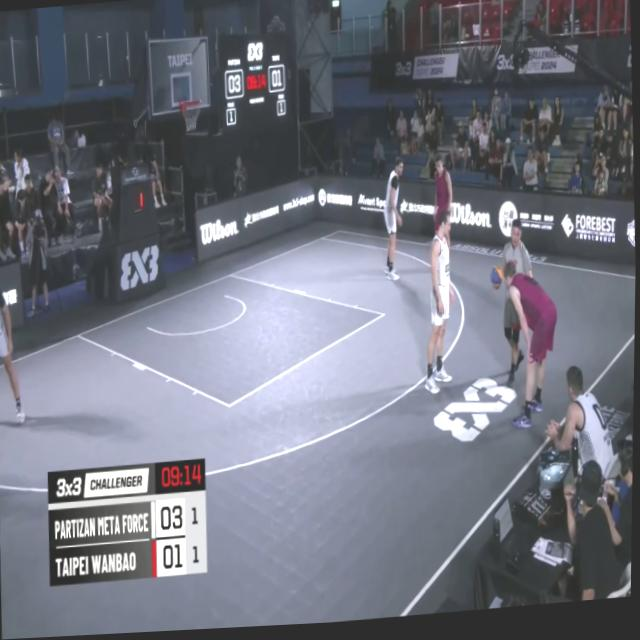ball: (489, 267, 504, 298)
hoop: (178, 97, 203, 133)
player: (501, 262, 563, 433), (420, 212, 458, 397), (382, 160, 408, 287), (431, 157, 454, 243)
